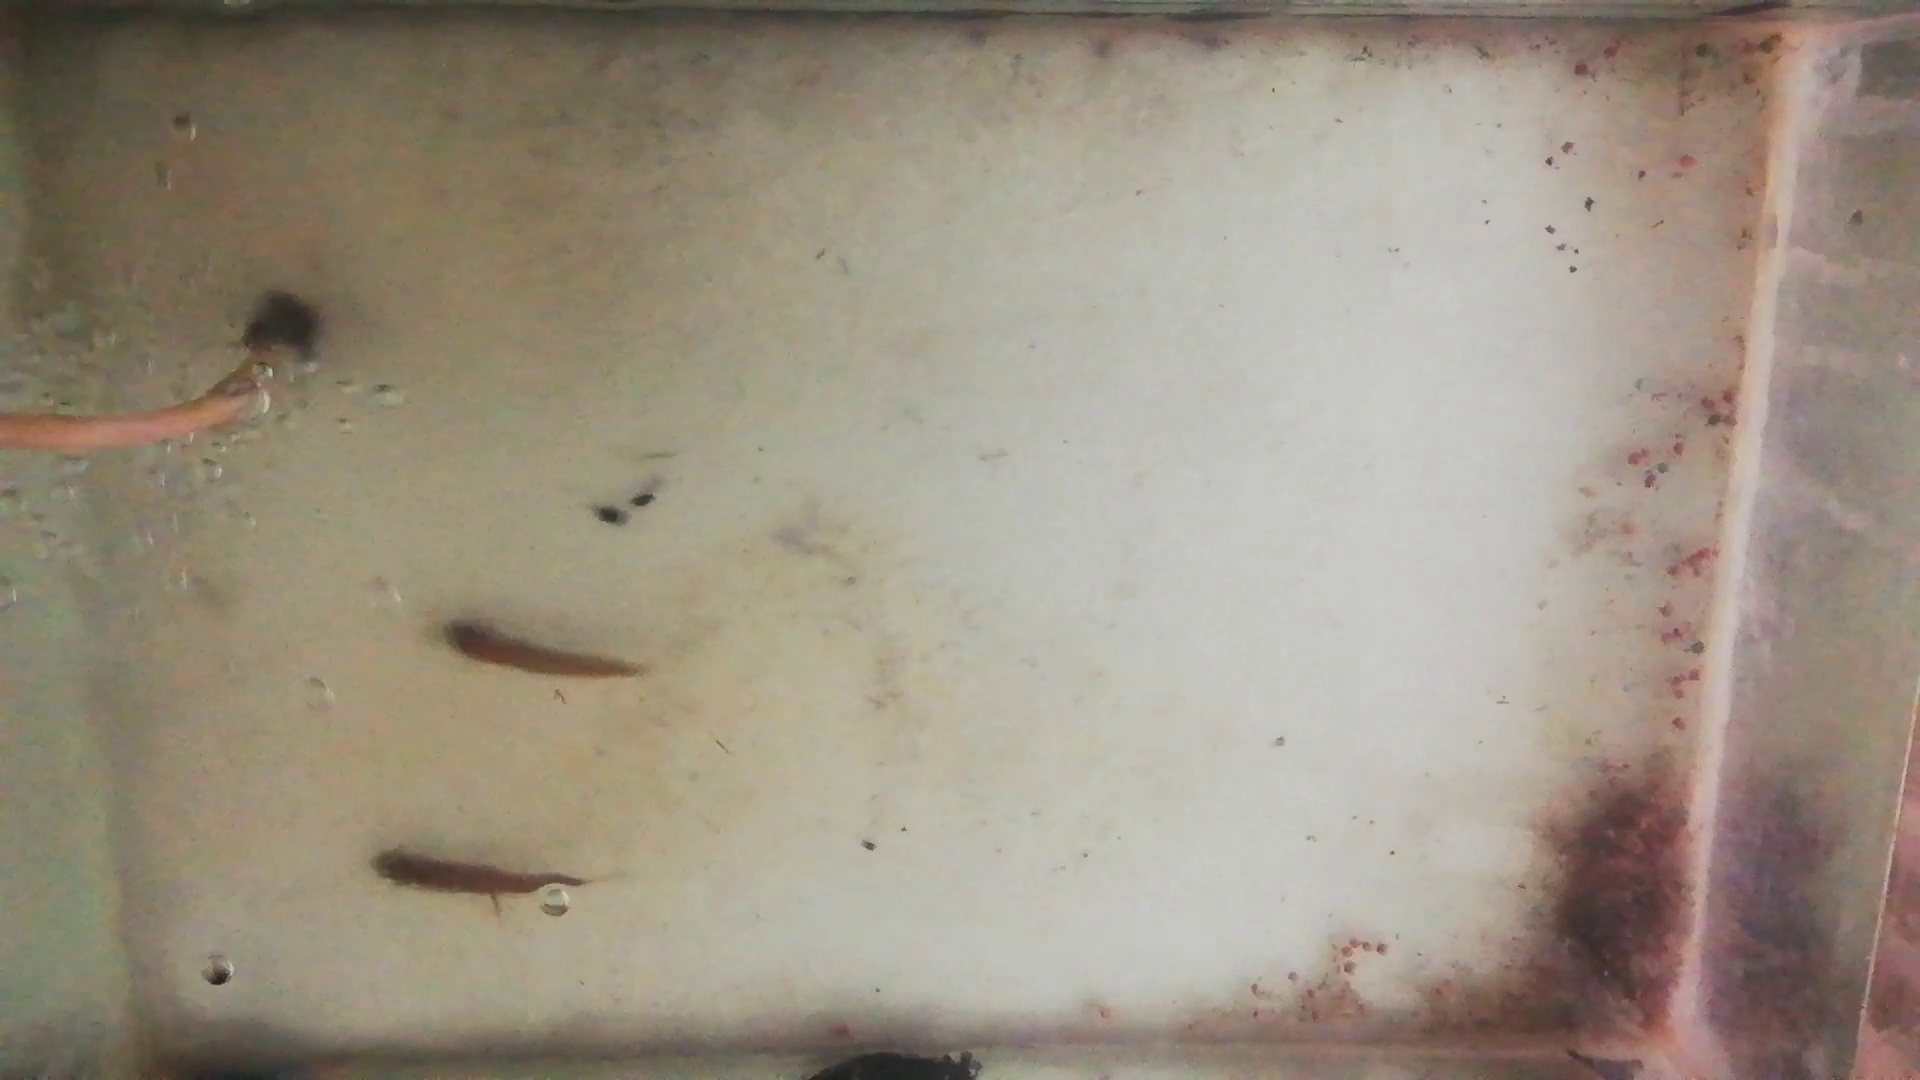fish: (436, 618, 632, 679), (363, 848, 567, 893)
